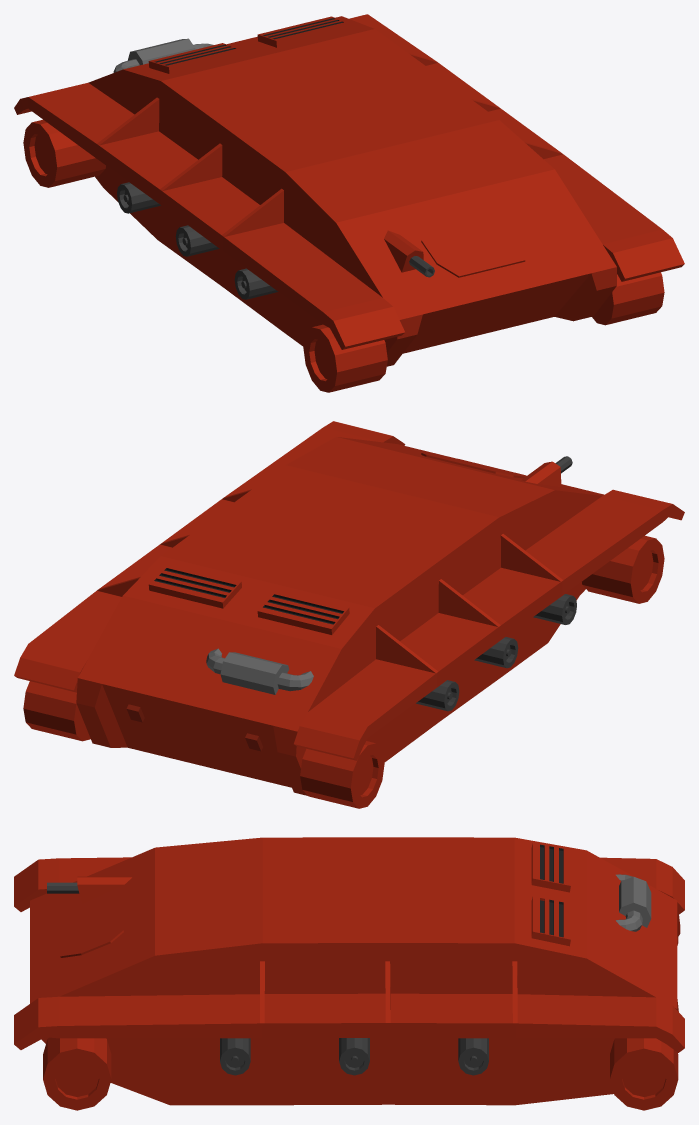
File: tankBody.fbx
The picture shows the model from 3 angles, top to bottom: view 1: azimuth 30°, elevation 25°; view 2: azimuth 150°, elevation 25°; view 3: azimuth 270°, elevation 25°; orthographic projection.
Parts seen in each view (by area): view 1: Body.001; view 2: Body.001; view 3: Body.001.
Part boxes in pixels (bbox=[...]): Body.001: bbox=[14, 14, 684, 392]; Body.001: bbox=[14, 421, 684, 808]; Body.001: bbox=[14, 837, 684, 1110].
Bounding box in the file's own units: 8.69 × 3.96 × 14.69.
